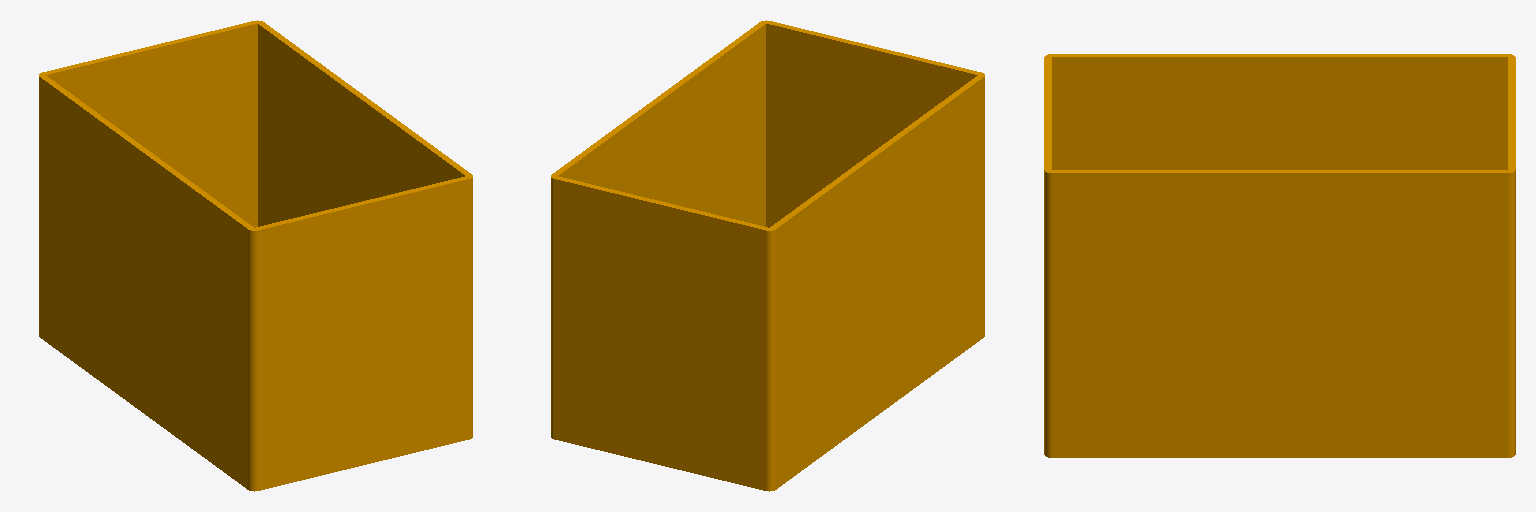
URDF robot description (tray):
<robot name="tray">
  <link name="tray_base_link">
    <contact>
      <lateral_friction value="0.5"/>
      <rolling_friction value="0.0"/>
      <contact_cfm value="0.0"/>
      <contact_erp value="1.0"/>
    </contact>
    <inertial>
      <origin rpy="0 0 0" xyz="0 0 0"/>
      <mass value="1"/>
      <inertia ixx="0.1" ixy="0" ixz="0" iyy="0.1" iyz="0" izz="0.1"/>
    </inertial>
    <visual>
      <origin rpy="0 0 0" xyz="0 0 0"/>
      <geometry>
        <mesh filename="meshes/test_bin.obj" scale="0.001 0.001 0.001"/>
      </geometry>
      <!-- <material name="tray_material">
        <color rgba="0.7 0.7 0.7 1"/>
      </material> -->
    </visual>
    <collision>
      <origin rpy="0 0 0" xyz="0 0 0"/>
      <geometry>
        <mesh filename="meshes/test_bin.obj" scale="0.001 0.001 0.001"/>
      </geometry>
    </collision>
  </link>
</robot>

--- Facts derived from the render (not from the file) ---
Views: 3 orthographic renders of the robot side by side, from view 1: azimuth 30°, elevation 25°; view 2: azimuth 150°, elevation 25°; view 3: azimuth 270°, elevation 25°.
Robot: tray — 1 links, 0 joints (none); root link tray_base_link; default pose: every joint at zero.
Visible links, largest first — view 1: tray_base_link; view 2: tray_base_link; view 3: tray_base_link.
Boxes of the visible links, x1,y1,x2,y2 form: tray_base_link: [39, 20, 472, 491]; tray_base_link: [551, 20, 984, 491]; tray_base_link: [1044, 54, 1515, 457].
Size in the robot's own frame: 0.36 by 0.6 by 0.4 metres.
1 mesh visuals loaded from 1 distinct referenced files (1 OBJ).